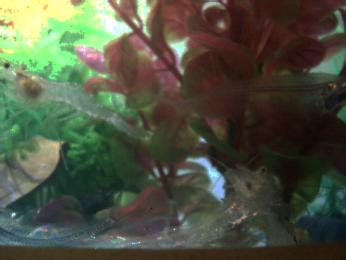glassfish: (3, 189, 145, 249), (170, 72, 346, 115)
siberian prawn: (1, 59, 149, 141), (222, 163, 300, 247)
